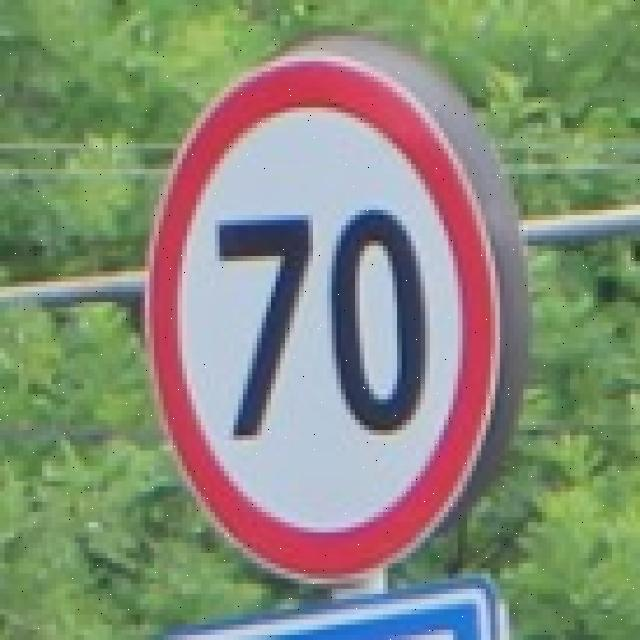speed limit 70: (143, 58, 505, 589)
